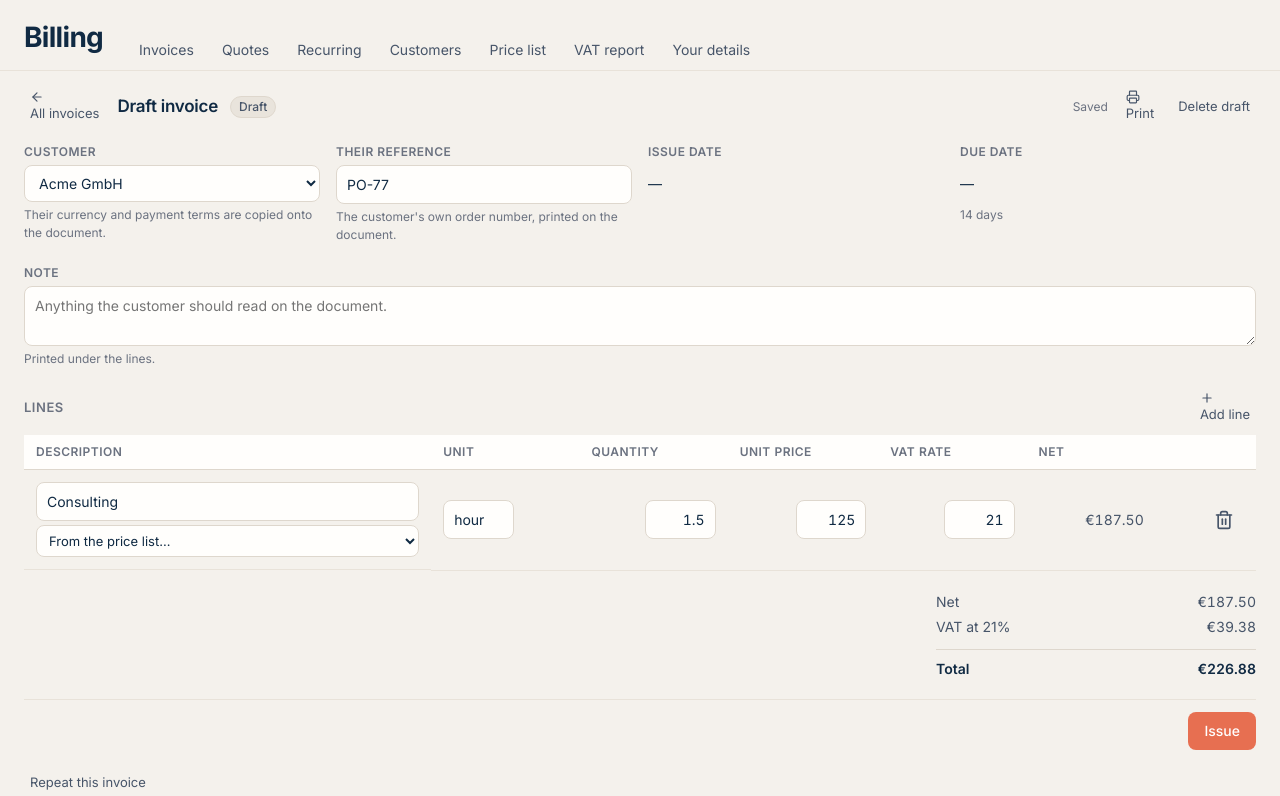
Test: the draft editor › a refusal is shown in the server's own words and nothing is lost
expect the text "€226.88" is shown: met, box [1197,658,1256,678]
Replace the text in the field named "Quantity" with "3": (680, 520) [645,500,716,539]
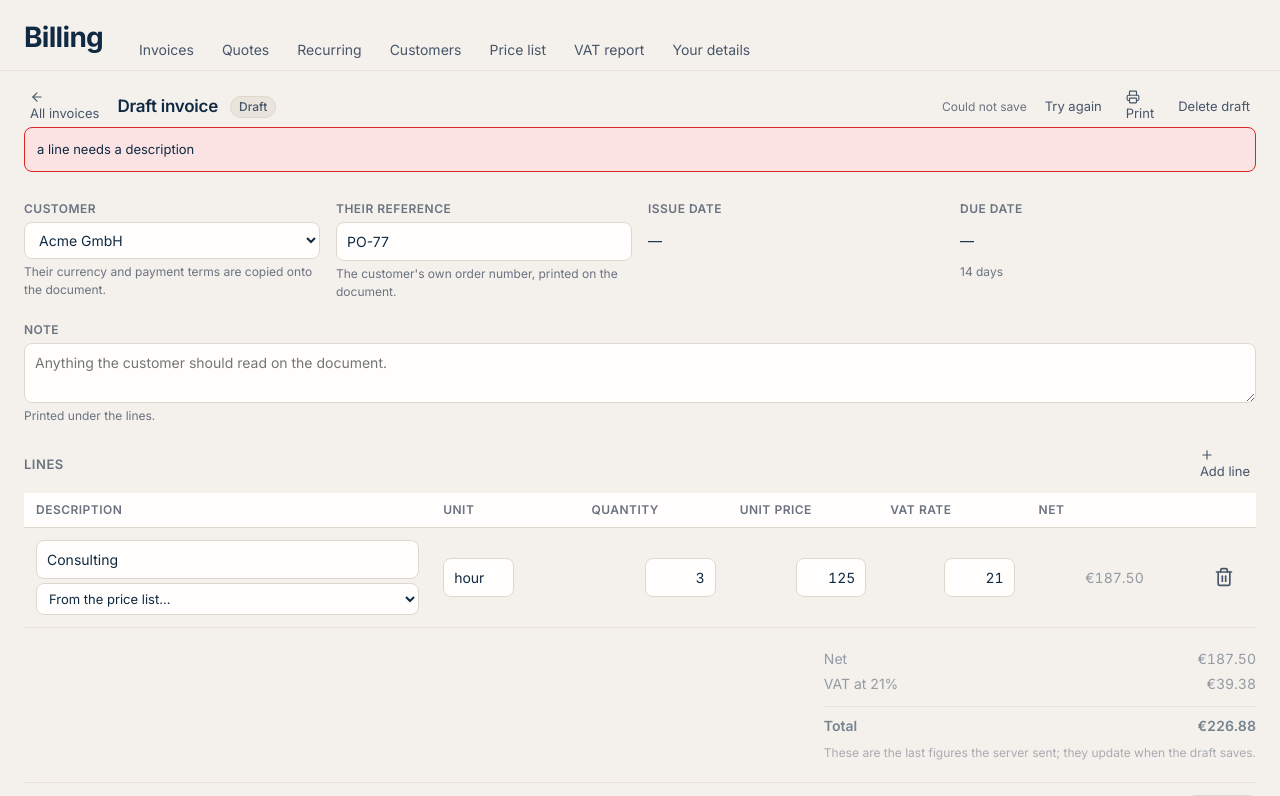
expect the message "a line needs a description" is shown: met, box [24,126,1256,172]
